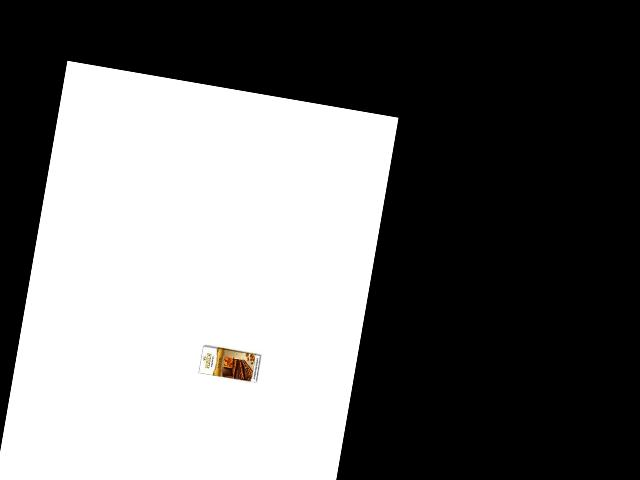chocolate: (194, 333, 265, 388)
